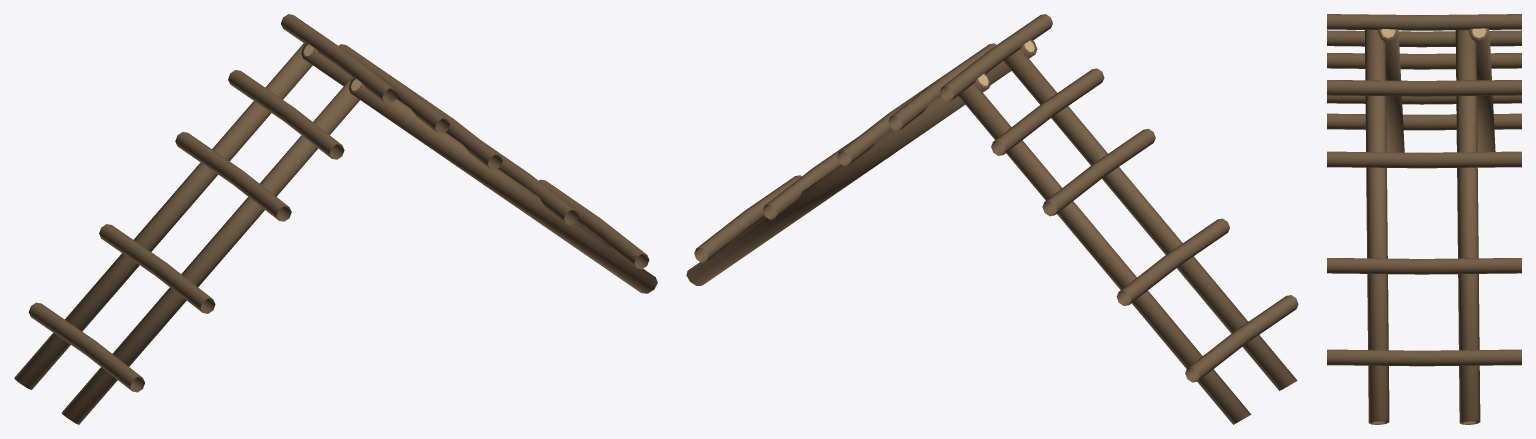
The model's file is rpgpp_ag_roof_support_01_9x4x3.fbx.
3 views of the same model, side by side, from view 1: azimuth 30°, elevation 25°; view 2: azimuth 150°, elevation 25°; view 3: azimuth 270°, elevation 25° (orthographic). The views are drawn at different scales.
Visible parts, largest first — view 1: rpgpp_ag_roof_support_01_9x4x3; view 2: rpgpp_ag_roof_support_01_9x4x3; view 3: rpgpp_ag_roof_support_01_9x4x3.
Boxes of the visible parts, left/top/right/bottom form: rpgpp_ag_roof_support_01_9x4x3: left=14, top=14, right=657, bottom=424; rpgpp_ag_roof_support_01_9x4x3: left=686, top=14, right=1298, bottom=424; rpgpp_ag_roof_support_01_9x4x3: left=1327, top=14, right=1521, bottom=424.
Bounding box in the file's own units: 9.98 × 4.77 × 3.
